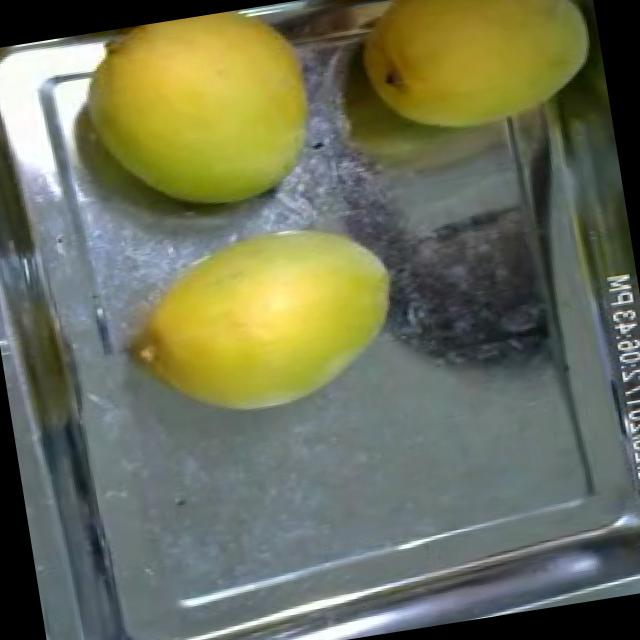fruit: (102, 196, 420, 443), (57, 0, 347, 245), (341, 0, 613, 166)
